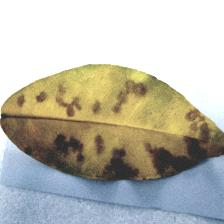black spot: (35, 85, 201, 175)
